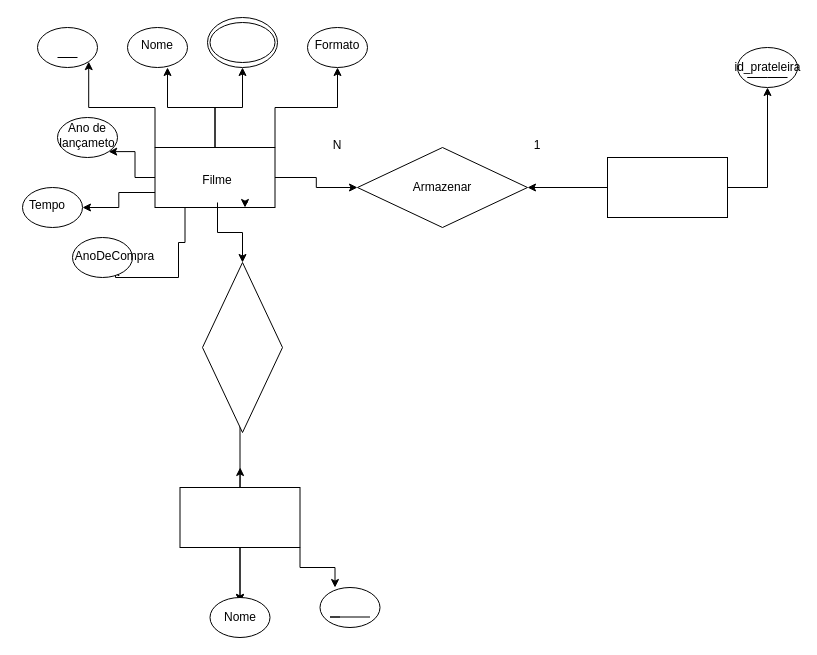
Some shapes in this 817 by 655 pixel diagram are drawn without their labels. The shapes that lost their labels are listed below. From the top down, each one's centre as x and y in pixels, then its label:
At pixel 67 47: "ID".
At pixel 242 42: "Gêneros".
At pixel 667 187: "Prateleira".
At pixel 242 347: "Atuar".
At pixel 349 607: "id_ator".
